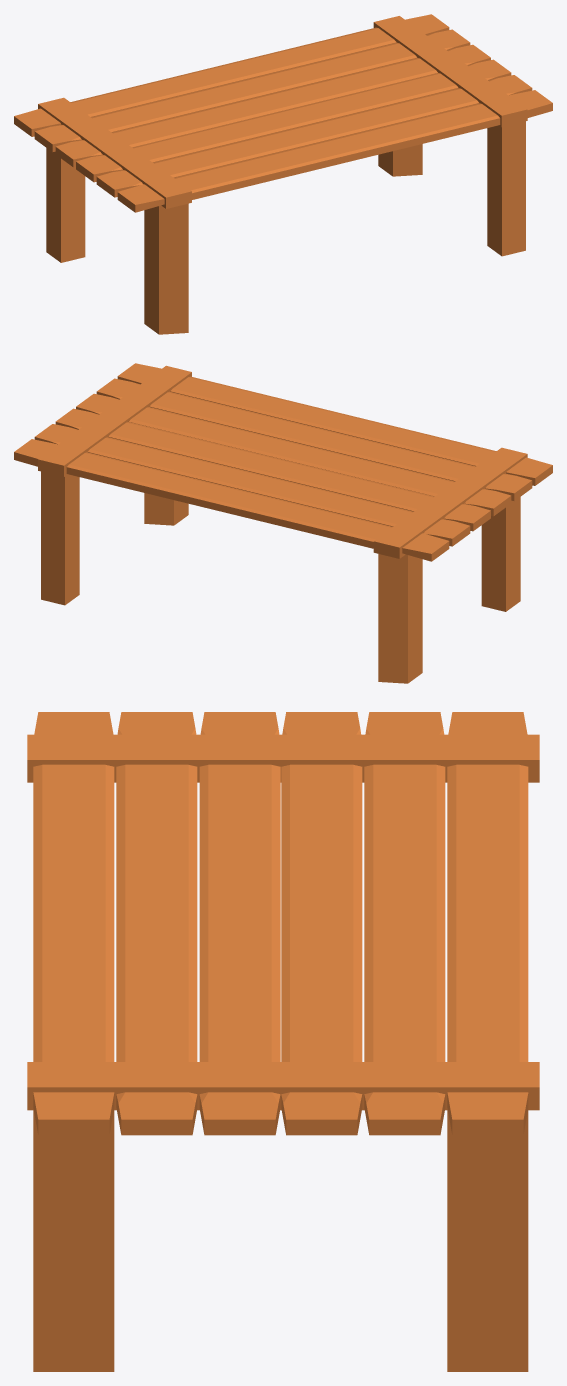
File: Mesa Better_001.fbx
The picture shows the model from 3 angles, top to bottom: view 1: azimuth 30°, elevation 25°; view 2: azimuth 150°, elevation 25°; view 3: azimuth 270°, elevation 25°; orthographic projection. The views are drawn at different scales.
Visible parts, largest first — view 1: Cube; view 2: Cube; view 3: Cube.
Boxes of the visible parts, box(x1,y1,x2,y2) form: Cube: box(14, 14, 552, 334); Cube: box(14, 363, 552, 683); Cube: box(27, 712, 539, 1371).
Size of the model in its own units: 872 by 284 by 463.
